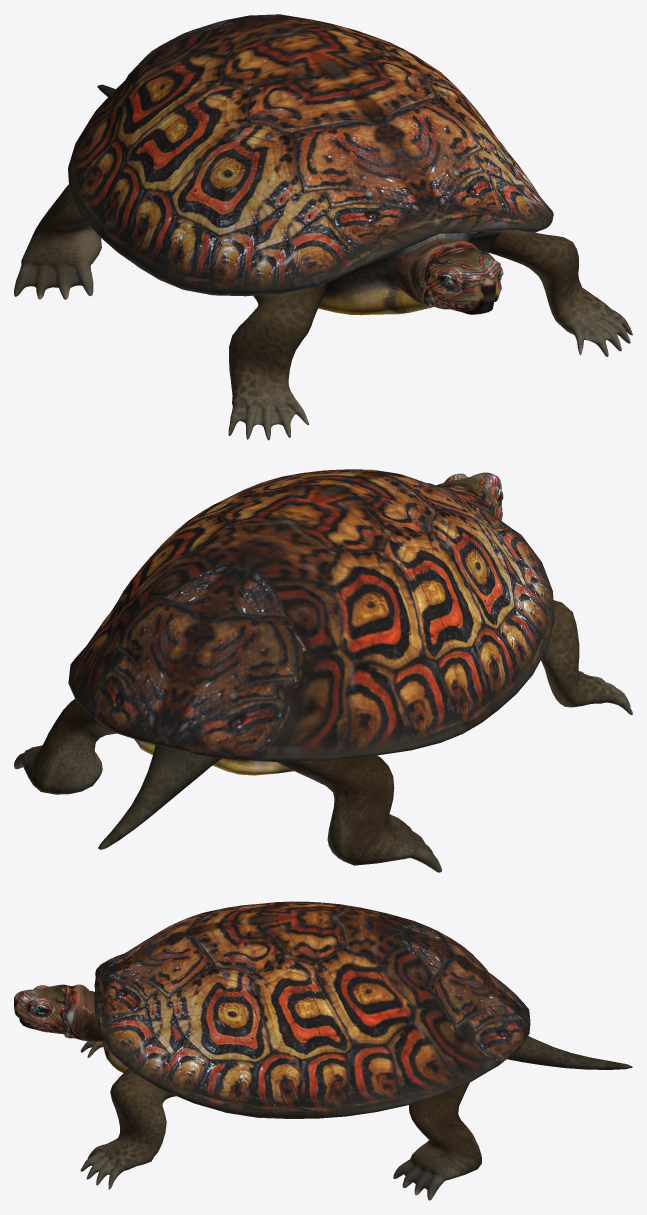
The model's file is TortugaRoja.glb.
3 renders of one model, top to bottom at view 1: azimuth 30°, elevation 25°; view 2: azimuth 150°, elevation 25°; view 3: azimuth 270°, elevation 25°, orthographic. The views are drawn at different scales.
Visible parts, largest first — view 1: TortugaRoja; view 2: TortugaRoja; view 3: TortugaRoja.
Boxes of the visible parts, left/top/right/bottom form: TortugaRoja: left=14, top=14, right=632, bottom=440; TortugaRoja: left=14, top=469, right=632, bottom=872; TortugaRoja: left=14, top=901, right=632, bottom=1200.
Size of the model in its own units: 1.69 by 0.9716 by 2.69.
1 material, 1 textured.
